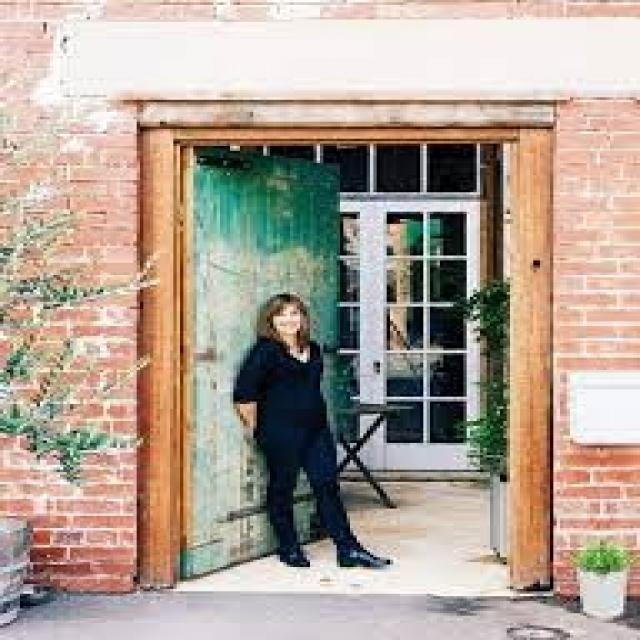walking: (217, 287, 393, 584)
